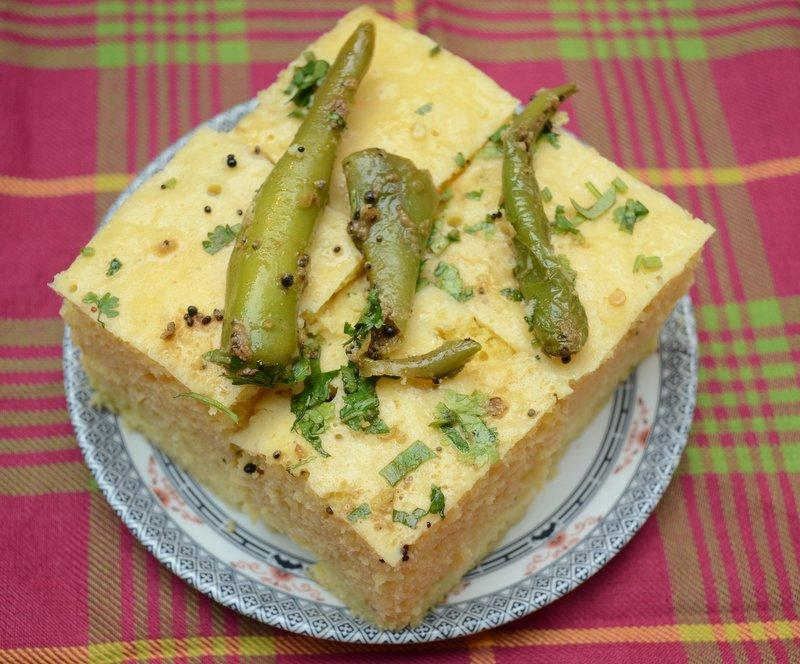dhokla: (78, 27, 698, 602)
